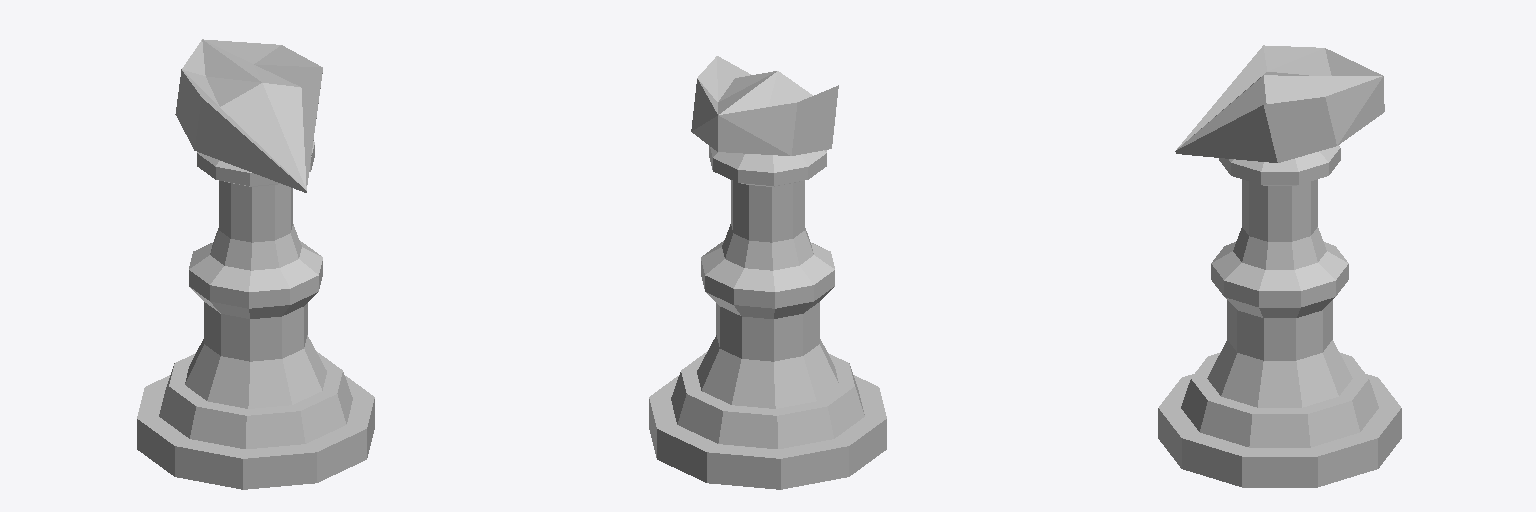
Rendered from jumper.obj.
The picture shows the model from 3 angles: view 1: azimuth 30°, elevation 25°; view 2: azimuth 150°, elevation 25°; view 3: azimuth 270°, elevation 25°; orthographic projection.
Size of the model in its own units: 0.9929 by 1.73 by 1.04.